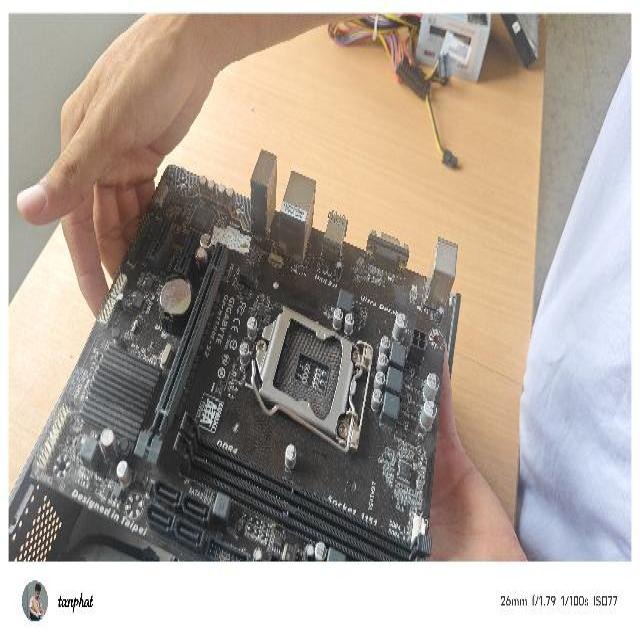Mainboard: (28, 137, 461, 561)
